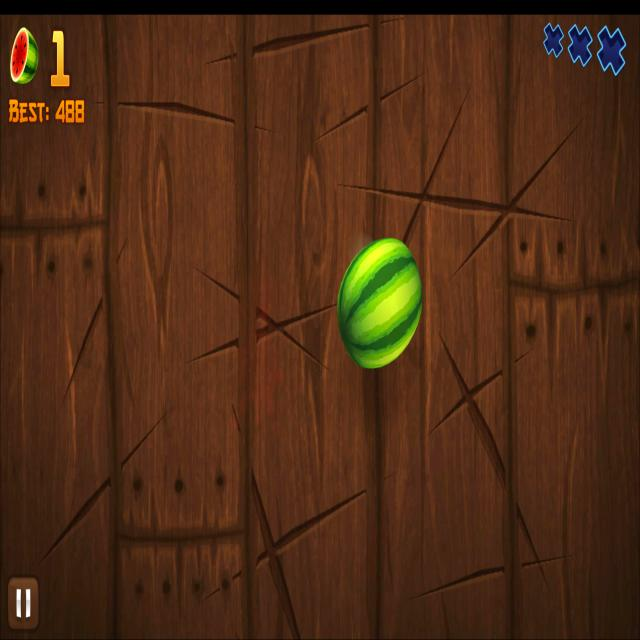fruit: (336, 236, 424, 373)
